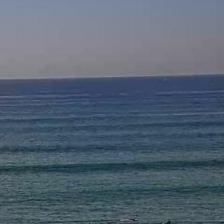surfer: (128, 218, 138, 221), (164, 220, 173, 223), (219, 219, 223, 223), (105, 223, 111, 223), (88, 223, 92, 223)
